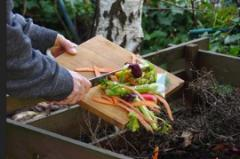organic: (99, 93, 157, 131), (202, 82, 234, 120)
